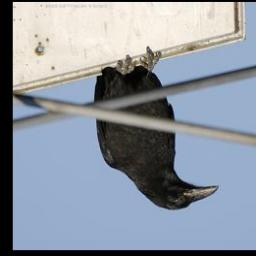Crow: (92, 48, 221, 212)
